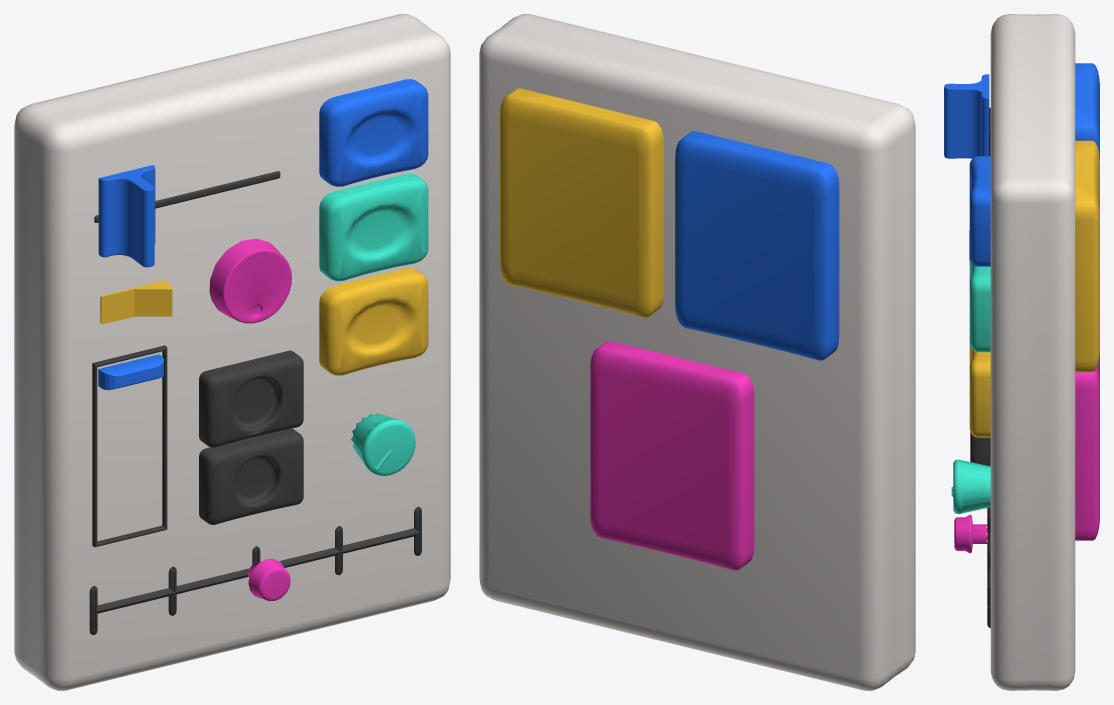
The model's file is configurator-color-spot.glb.
3 renders of one model, left to right at view 1: azimuth 30°, elevation 25°; view 2: azimuth 150°, elevation 25°; view 3: azimuth 270°, elevation 25°, orthographic. The views are drawn at different scales.
Visible parts, largest first — view 1: base, 2a, 2b, 2c, 6a, 6b, 3, 1, Cube.010, 7, Cube.004, 4 (+3 smaller); view 2: base, spot-2, spot-1, spot-3; view 3: base, spot-3, spot-1, 1, 2a, spot-2, 2b, 2c, 7, 8, 6b, Cube.010.
Part boxes in pixels (<box>): base: <box>14,14,450,690</box>; 2a: <box>319,79,428,186</box>; 2b: <box>319,173,428,281</box>; 2c: <box>319,268,428,375</box>; 6a: <box>199,350,303,447</box>; 6b: <box>199,428,303,524</box>; 3: <box>209,238,291,323</box>; 1: <box>98,165,155,267</box>; Cube.010: <box>89,506,421,634</box>; 7: <box>351,413,415,475</box>; Cube.004: <box>92,345,167,547</box>; 4: <box>100,280,172,324</box>; base: <box>479,14,915,690</box>; spot-2: <box>675,131,839,360</box>; spot-1: <box>590,341,754,570</box>; spot-3: <box>500,88,663,317</box>; base: <box>990,14,1075,690</box>; spot-3: <box>1075,140,1099,372</box>; spot-1: <box>1075,353,1099,540</box>; 1: <box>944,74,989,158</box>; 2a: <box>969,156,990,266</box>; spot-2: <box>1075,63,1099,159</box>; 2b: <box>969,259,990,352</box>; 2c: <box>969,344,990,437</box>; 7: <box>951,459,990,513</box>; 8: <box>954,514,987,553</box>; 6b: <box>970,432,990,466</box>; Cube.010: <box>987,507,990,628</box>.
Bounding box in the file's own units: 11.54 × 15.39 × 4.25.
